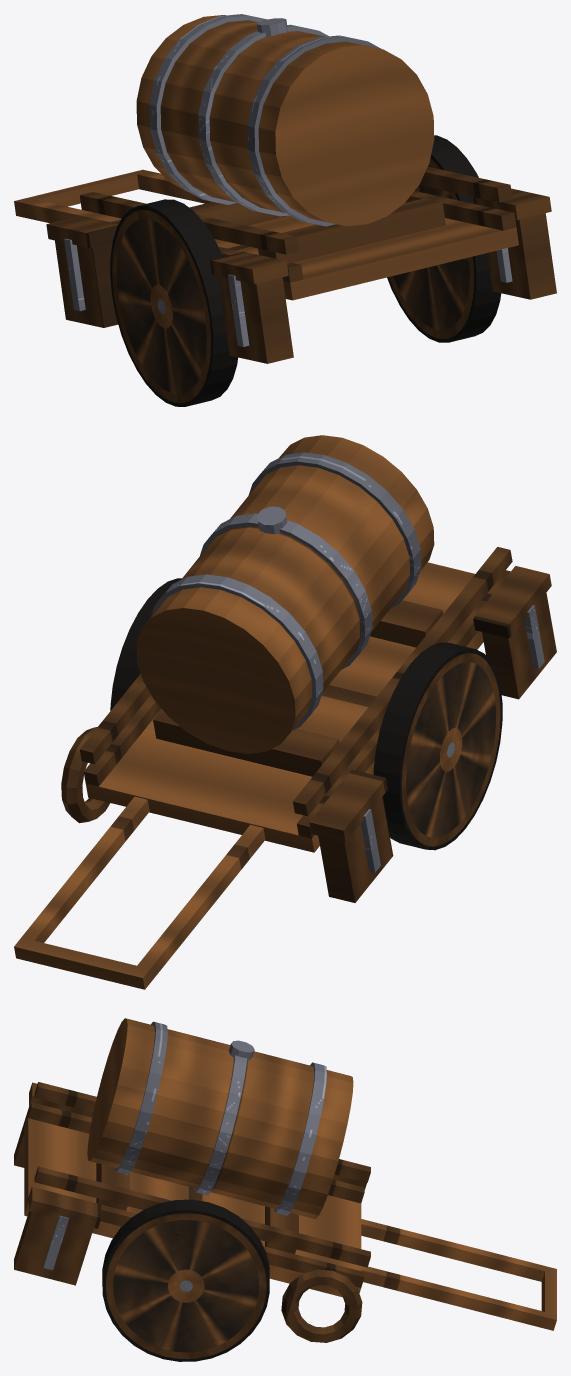
File: holzwagen_fass_blur_world.fbx
The picture shows the model from 3 angles, top to bottom: view 1: azimuth 30°, elevation 25°; view 2: azimuth 150°, elevation 25°; view 3: azimuth 270°, elevation 25°; orthographic projection. The views are drawn at different scales.
Visible parts, largest first — view 1: Holzwagen_Fass_blur; view 2: Holzwagen_Fass_blur; view 3: Holzwagen_Fass_blur.
Part boxes in pixels (x1,y1,x2,y2): Holzwagen_Fass_blur: [14, 14, 556, 406]; Holzwagen_Fass_blur: [14, 435, 556, 989]; Holzwagen_Fass_blur: [14, 1018, 556, 1361].
Bounding box in the file's own units: 114 × 125 × 220.
